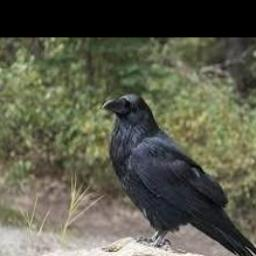Crow: (102, 94, 256, 256)
